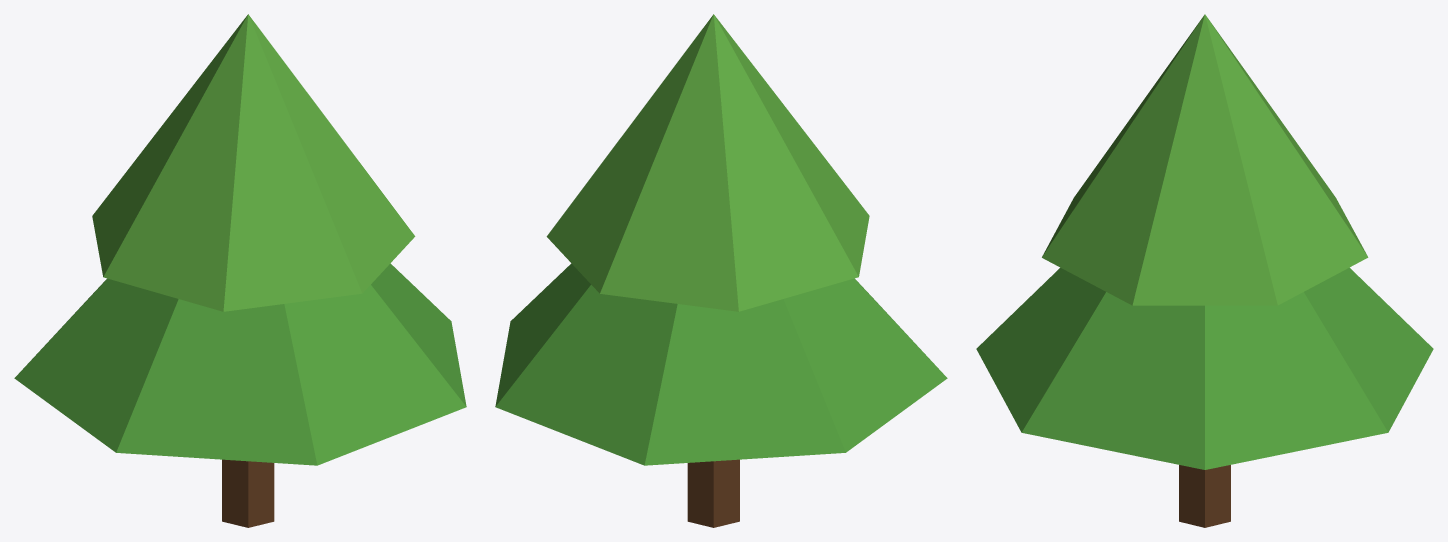
File: SM_PineC_G.glb
3 views of the same model, side by side, from view 1: azimuth 30°, elevation 25°; view 2: azimuth 150°, elevation 25°; view 3: azimuth 270°, elevation 25° (orthographic).
Parts seen in each view (by area): view 1: SM_PineC_G; view 2: SM_PineC_G; view 3: SM_PineC_G.
Part boxes in pixels (x1,y1,x2,y2): SM_PineC_G: (14, 14, 466, 527); SM_PineC_G: (495, 14, 947, 527); SM_PineC_G: (976, 14, 1433, 527).
Size of the model in its own units: 5.32 by 6.6 by 5.46.
1 material, 1 textured.
